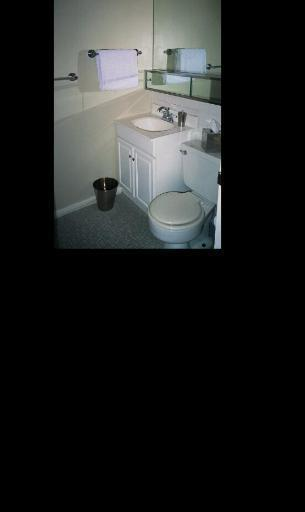Bote de Basura: (88, 175, 122, 215)
Lavamanos: (132, 102, 178, 138)
Sanitario: (147, 142, 220, 247)
